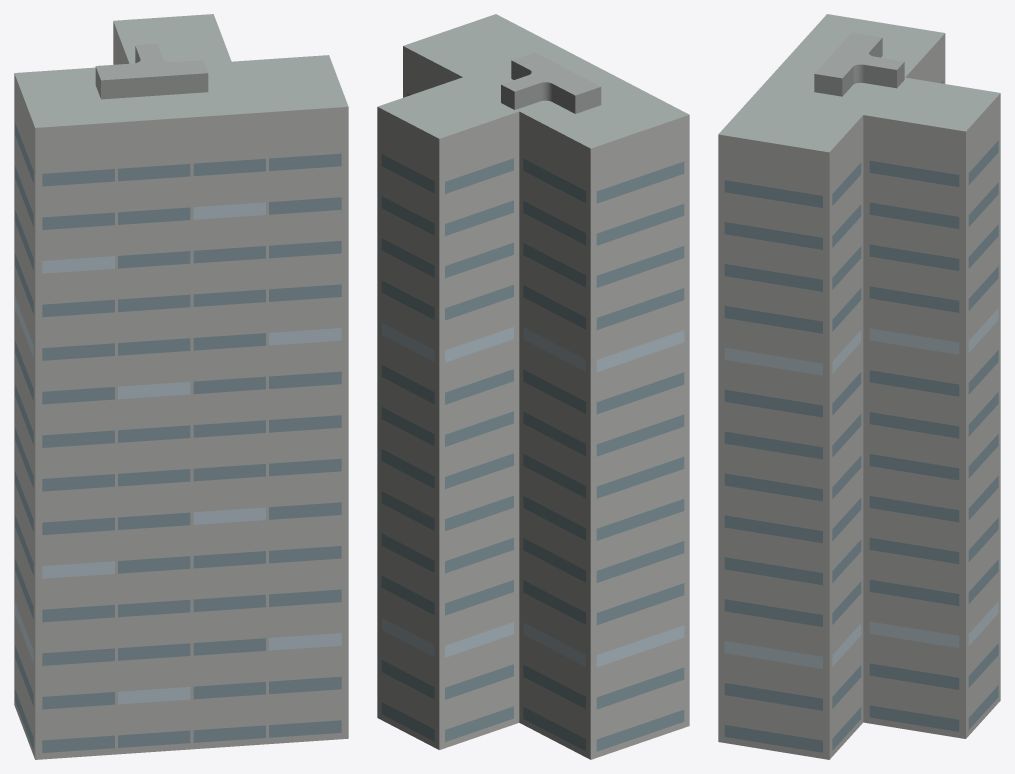
File: fallback-prestige-115.glb
The picture shows the model from 3 angles, left to right: view 1: azimuth 30°, elevation 25°; view 2: azimuth 150°, elevation 25°; view 3: azimuth 270°, elevation 25°; orthographic projection. The views are drawn at different scales.
Parts seen in each view (by area): view 1: fallback-prestige-115; view 2: fallback-prestige-115; view 3: fallback-prestige-115.
Boxes of the visible parts, <box> form: fallback-prestige-115: <box>14,14,348,759</box>; fallback-prestige-115: <box>377,14,689,759</box>; fallback-prestige-115: <box>718,14,1000,759</box>.
Size of the model in its own units: 38.9 by 82 by 33.55.
